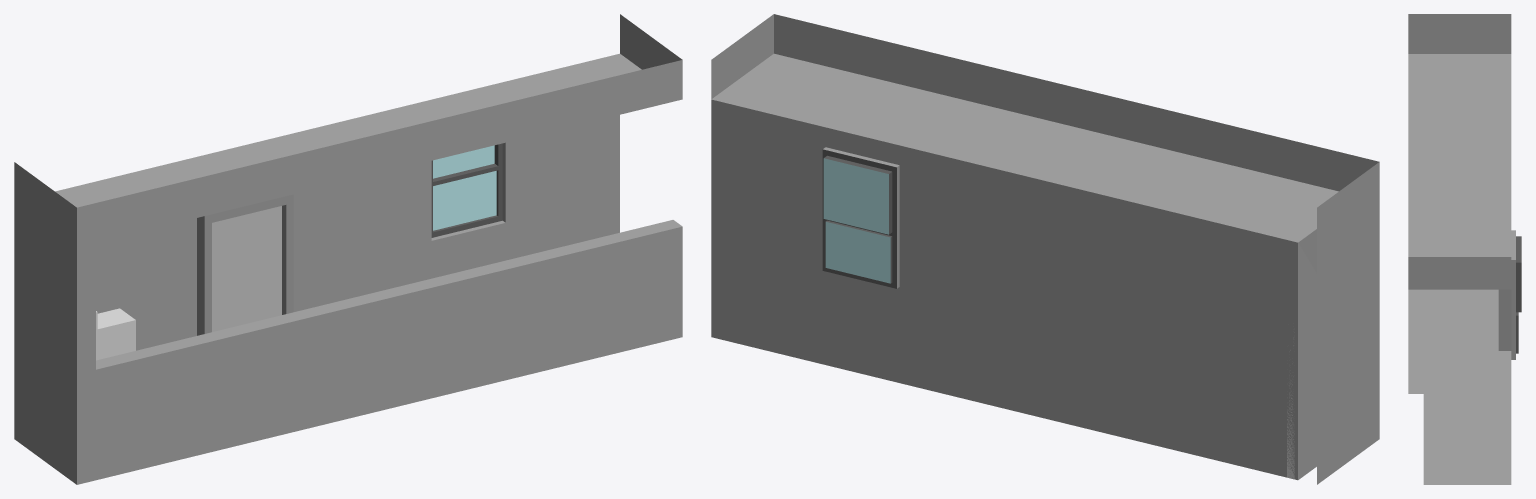
The model's file is BalconyLeftWall.fbx.
3 renders of one model, left to right at view 1: azimuth 30°, elevation 25°; view 2: azimuth 150°, elevation 25°; view 3: azimuth 270°, elevation 25°, orthographic. The views are drawn at different scales.
Parts seen in each view (by area): view 1: BalconyLeftWall; view 2: BalconyLeftWall; view 3: BalconyLeftWall.
Part boxes in pixels (x1,y1,x2,y2): BalconyLeftWall: (14,14,682,484); BalconyLeftWall: (711,14,1379,484); BalconyLeftWall: (1408,14,1521,484).
Bounding box in the file's own units: 800 × 350 × 158.
